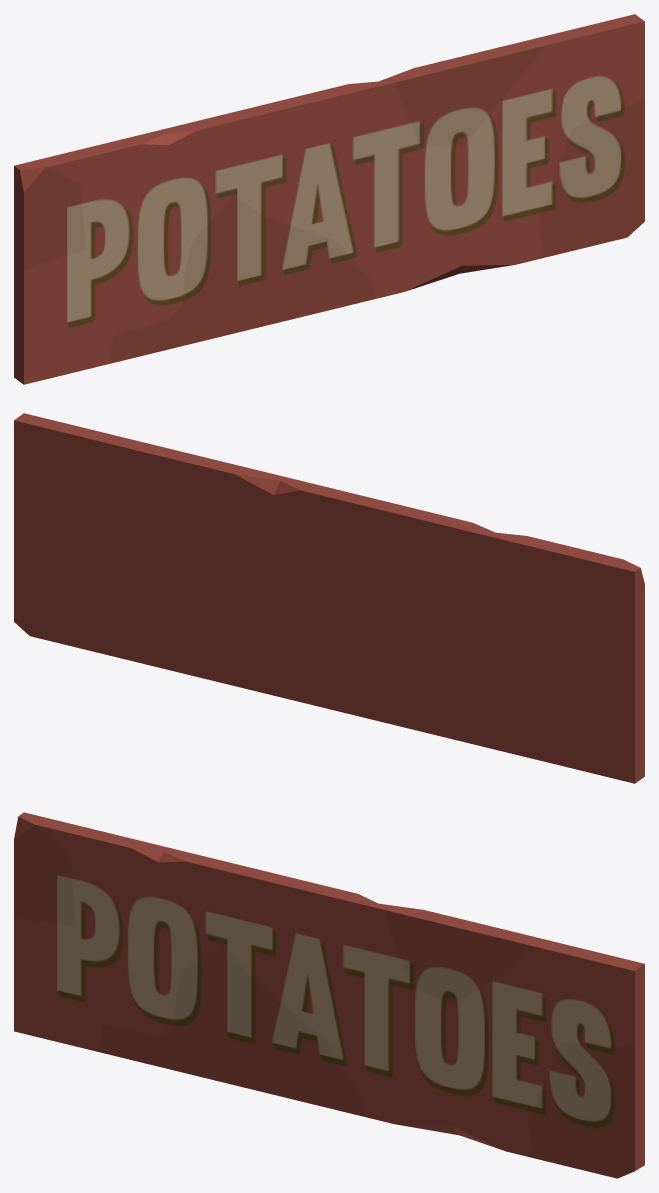
The model's file is SM_Prop_Sign_Potatoes_01.fbx.
3 views of the same model, one above another, from view 1: azimuth 30°, elevation 25°; view 2: azimuth 150°, elevation 25°; view 3: azimuth 330°, elevation 25° (orthographic).
Visible parts, largest first — view 1: SM_Prop_Sign_Potatoes_01; view 2: SM_Prop_Sign_Potatoes_01; view 3: SM_Prop_Sign_Potatoes_01.
Boxes of the visible parts, x1=… form: SM_Prop_Sign_Potatoes_01: x1=14, y1=14, x2=644, y2=384; SM_Prop_Sign_Potatoes_01: x1=14, y1=413, x2=644, y2=783; SM_Prop_Sign_Potatoes_01: x1=14, y1=812, x2=644, y2=1178.
Bounding box in the file's own units: 86.87 × 28.31 × 2.41.
